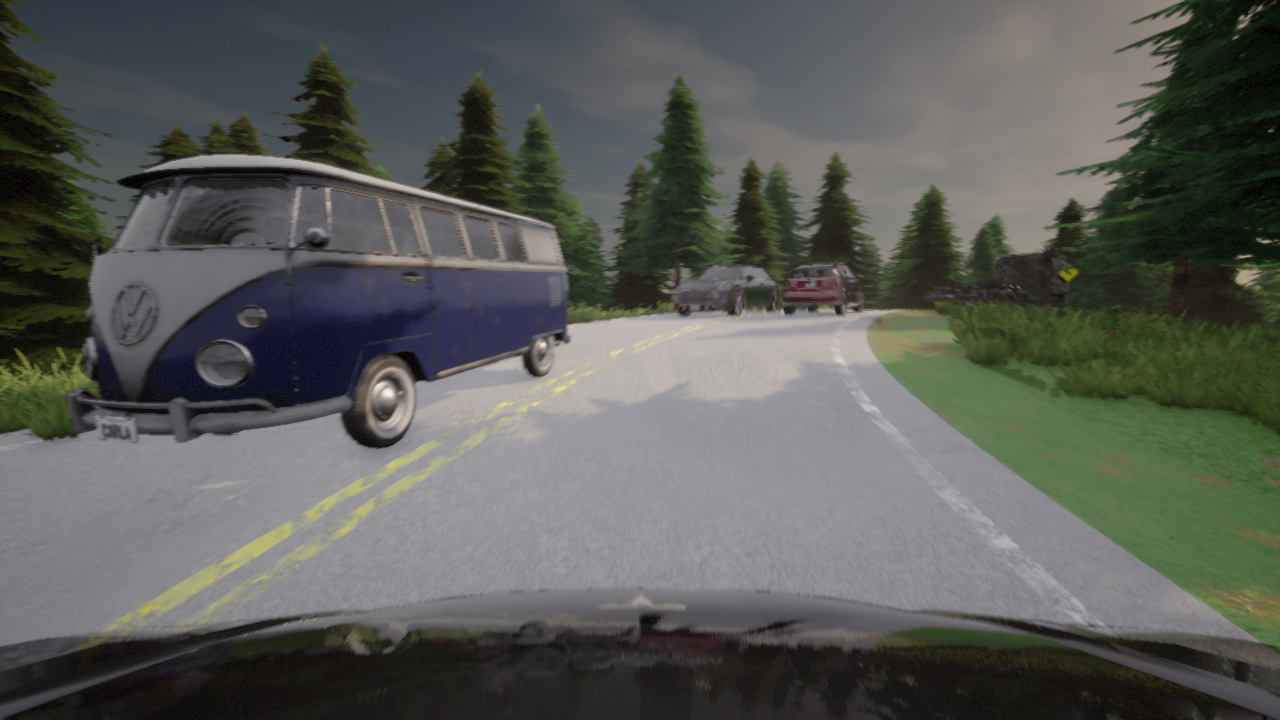cyclist: (0, 588, 1279, 719), (66, 154, 569, 448), (924, 248, 1073, 308), (673, 263, 778, 315), (782, 261, 863, 315)
